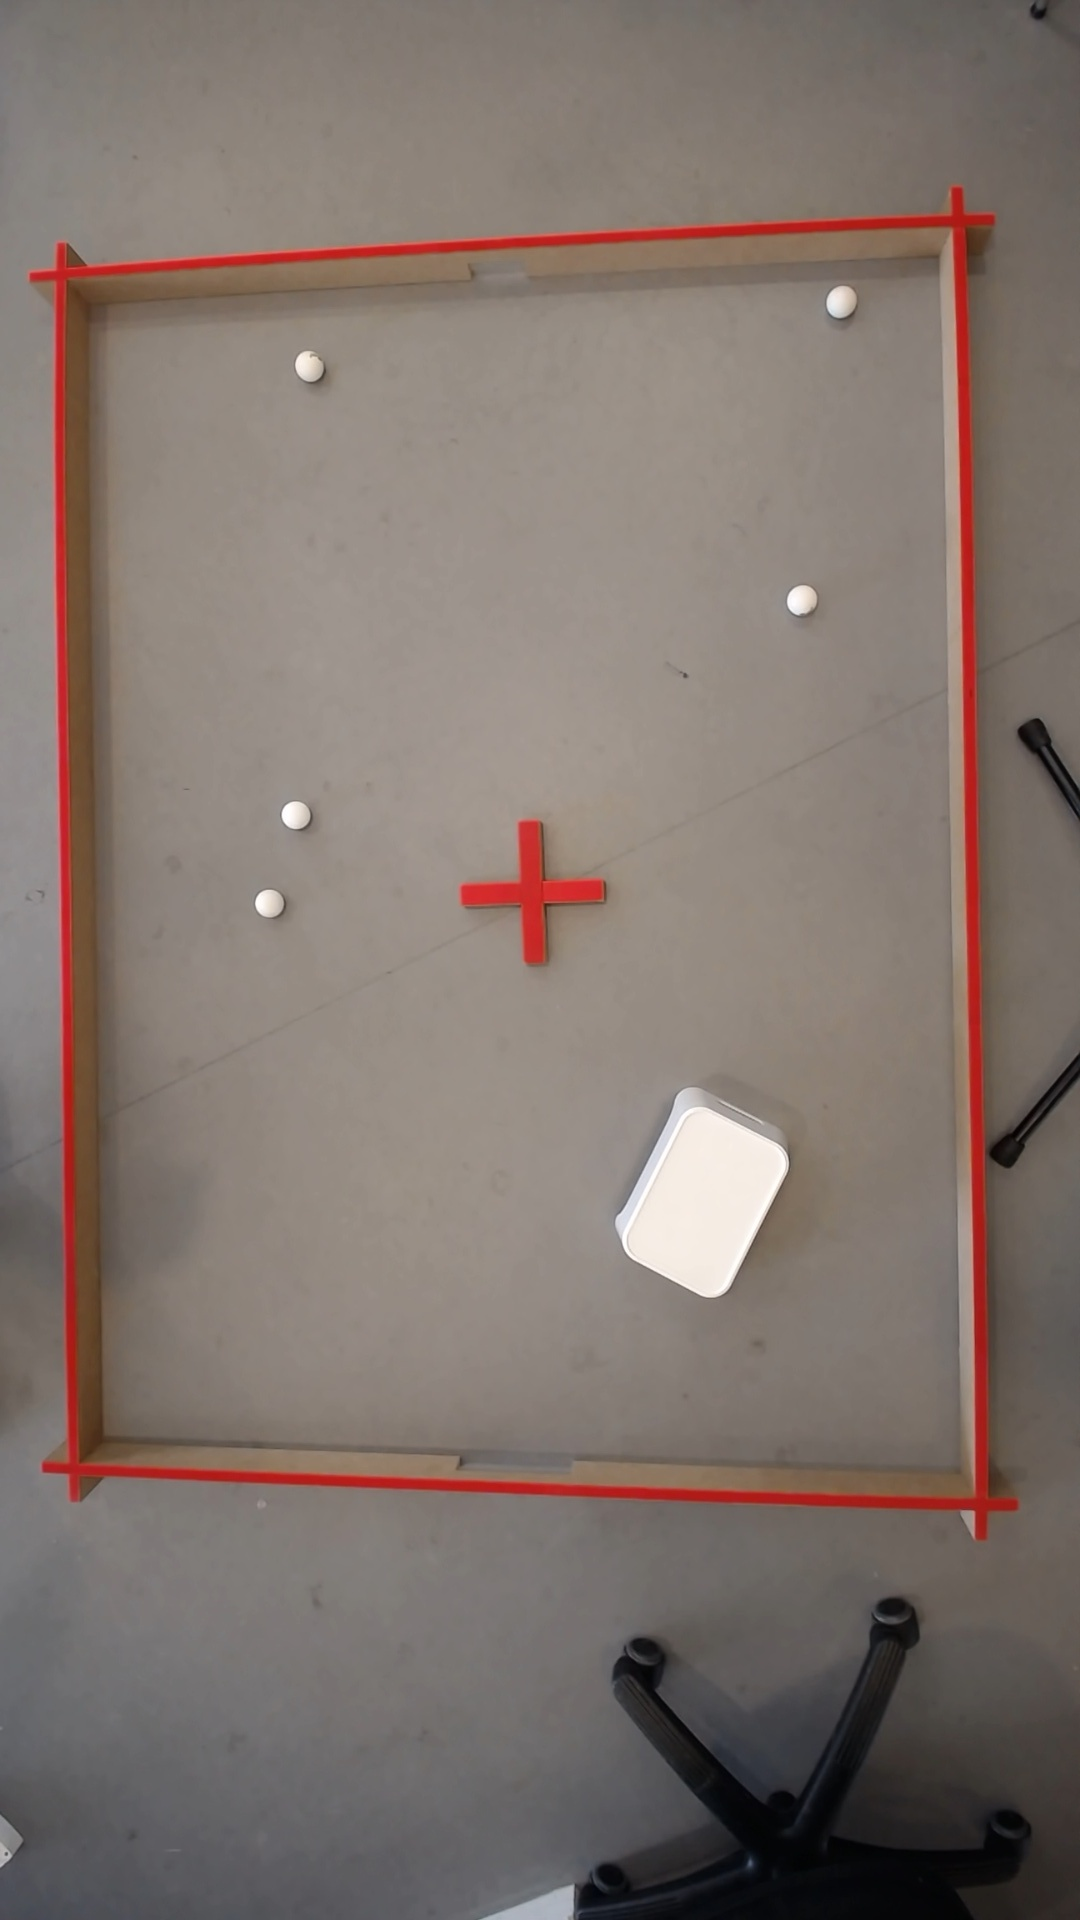balls: (601, 1088, 799, 1305), (287, 347, 326, 385), (819, 280, 856, 319), (781, 580, 818, 618), (276, 795, 313, 832)
car: (249, 884, 284, 919)
